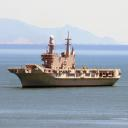Portanaves: (7, 29, 125, 91)
